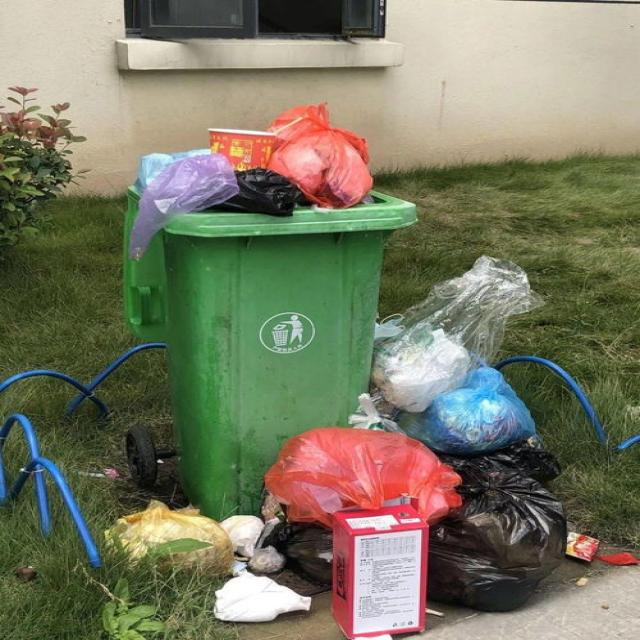garbage: (101, 255, 639, 639)
overflow: (122, 101, 417, 520)
